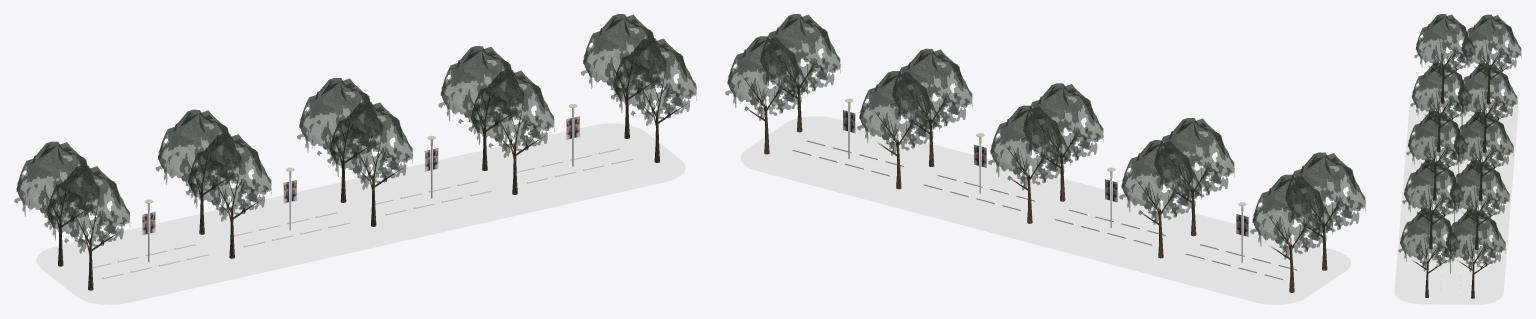
The model's file is parking.obj.
The picture shows the model from 3 angles, left to right: view 1: azimuth 30°, elevation 25°; view 2: azimuth 150°, elevation 25°; view 3: azimuth 270°, elevation 25°; orthographic projection. The views are drawn at different scales.
Visible parts, largest first — view 1: Mesh297 thirdofcrown_2_17 Red_Tree_1_9 RedTree_1_9 Group5 Group_, Mesh223 thirdofcrown_2_13 Red_Tree_1_7 RedTree_1_7 Group4 Group_, Mesh149 thirdofcrown_2_9 Red_Tree_1_5 RedTree_1_5 Group3 Group_6, Mesh1 thirdofcrown_2_1 Red_Tree_1_1 RedTree_1_1 Group1 Group_66_, Mesh75 thirdofcrown_2_5 Red_Tree_1_3 RedTree_1_3 Group2 Group_66, Mesh112 thirdofcrown_2_7 Red_Tree_1_4 RedTree_1_4 Group2 Group_6, Mesh260 thirdofcrown_2_15 Red_Tree_1_8 RedTree_1_8 Group4 Group_, Mesh38 thirdofcrown_2_3 Red_Tree_1_2 RedTree_1_2 Group1 Group_66, Mesh334 thirdofcrown_2_19 Red_Tree_1_10 RedTree_1_10 Group5 Grou, Mesh186 thirdofcrown_2_11 Red_Tree_1_6 RedTree_1_6 Group3 Group_, Mesh416 Group_15_2 Group_66_1 Model, Mesh415 Group_15_1 Group_66_1 Model (+55 smaller); view 2: Mesh46 thirdofcrown_2_4 Red_Tree_1_2 RedTree_1_2 Group1 Group_66, Mesh120 thirdofcrown_2_8 Red_Tree_1_4 RedTree_1_4 Group2 Group_6, Mesh342 thirdofcrown_2_20 Red_Tree_1_10 RedTree_1_10 Group5 Grou, Mesh194 thirdofcrown_2_12 Red_Tree_1_6 RedTree_1_6 Group3 Group_, Mesh268 thirdofcrown_2_16 Red_Tree_1_8 RedTree_1_8 Group4 Group_, Mesh231 thirdofcrown_2_14 Red_Tree_1_7 RedTree_1_7 Group4 Group_, Mesh83 thirdofcrown_2_6 Red_Tree_1_3 RedTree_1_3 Group2 Group_66, Mesh157 thirdofcrown_2_10 Red_Tree_1_5 RedTree_1_5 Group3 Group_, Mesh305 thirdofcrown_2_18 Red_Tree_1_9 RedTree_1_9 Group5 Group_, Mesh9 thirdofcrown_2_2 Red_Tree_1_1 RedTree_1_1 Group1 Group_66_, Mesh416 Group_15_2 Group_66_1 Model, Mesh415 Group_15_1 Group_66_1 Model (+55 smaller); view 3: Mesh30 thirdofcrown_1_1 Red_Tree_1_1 RedTree_1_1 Group1 Group_66, Mesh67 thirdofcrown_1_2 Red_Tree_1_2 RedTree_1_2 Group1 Group_66, Mesh104 thirdofcrown_1_3 Red_Tree_1_3 RedTree_1_3 Group2 Group_6, Mesh178 thirdofcrown_1_5 Red_Tree_1_5 RedTree_1_5 Group3 Group_6, Mesh252 thirdofcrown_1_7 Red_Tree_1_7 RedTree_1_7 Group4 Group_6, Mesh326 thirdofcrown_1_9 Red_Tree_1_9 RedTree_1_9 Group5 Group_6, Mesh141 thirdofcrown_1_4 Red_Tree_1_4 RedTree_1_4 Group2 Group_6, Mesh363 thirdofcrown_1_10 Red_Tree_1_10 RedTree_1_10 Group5 Grou, Mesh215 thirdofcrown_1_6 Red_Tree_1_6 RedTree_1_6 Group3 Group_6, Mesh289 thirdofcrown_1_8 Red_Tree_1_8 RedTree_1_8 Group4 Group_6, Mesh415 Group_15_1 Group_66_1 Model, Mesh416 Group_15_2 Group_66_1 Model (+67 smaller).
Boxes of the visible parts, bbox=[...] form: Mesh297 thirdofcrown_2_17 Red_Tree_1_9 RedTree_1_9 Group5 Group_: bbox=[46, 167, 104, 237]; Mesh223 thirdofcrown_2_13 Red_Tree_1_7 RedTree_1_7 Group4 Group_: bbox=[188, 135, 245, 205]; Mesh149 thirdofcrown_2_9 Red_Tree_1_5 RedTree_1_5 Group3 Group_6: bbox=[329, 103, 387, 173]; Mesh1 thirdofcrown_2_1 Red_Tree_1_1 RedTree_1_1 Group1 Group_66_: bbox=[613, 40, 671, 110]; Mesh75 thirdofcrown_2_5 Red_Tree_1_3 RedTree_1_3 Group2 Group_66: bbox=[471, 72, 528, 142]; Mesh112 thirdofcrown_2_7 Red_Tree_1_4 RedTree_1_4 Group2 Group_6: bbox=[440, 48, 498, 117]; Mesh260 thirdofcrown_2_15 Red_Tree_1_8 RedTree_1_8 Group4 Group_: bbox=[158, 111, 215, 181]; Mesh38 thirdofcrown_2_3 Red_Tree_1_2 RedTree_1_2 Group1 Group_66: bbox=[583, 16, 640, 85]; Mesh334 thirdofcrown_2_19 Red_Tree_1_10 RedTree_1_10 Group5 Grou: bbox=[16, 143, 74, 213]; Mesh186 thirdofcrown_2_11 Red_Tree_1_6 RedTree_1_6 Group3 Group_: bbox=[299, 79, 356, 149]; Mesh416 Group_15_2 Group_66_1 Model: bbox=[36, 246, 127, 304]; Mesh415 Group_15_1 Group_66_1 Model: bbox=[594, 123, 685, 181]; Mesh46 thirdofcrown_2_4 Red_Tree_1_2 RedTree_1_2 Group1 Group_66: bbox=[727, 38, 783, 105]; Mesh120 thirdofcrown_2_8 Red_Tree_1_4 RedTree_1_4 Group2 Group_6: bbox=[859, 72, 915, 140]; Mesh342 thirdofcrown_2_20 Red_Tree_1_10 RedTree_1_10 Group5 Grou: bbox=[1252, 176, 1308, 244]; Mesh194 thirdofcrown_2_12 Red_Tree_1_6 RedTree_1_6 Group3 Group_: bbox=[990, 107, 1046, 175]; Mesh268 thirdofcrown_2_16 Red_Tree_1_8 RedTree_1_8 Group4 Group_: bbox=[1121, 142, 1177, 209]; Mesh231 thirdofcrown_2_14 Red_Tree_1_7 RedTree_1_7 Group4 Group_: bbox=[1155, 119, 1209, 187]; Mesh83 thirdofcrown_2_6 Red_Tree_1_3 RedTree_1_3 Group2 Group_66: bbox=[892, 50, 947, 118]; Mesh157 thirdofcrown_2_10 Red_Tree_1_5 RedTree_1_5 Group3 Group_: bbox=[1023, 85, 1078, 152]; Mesh305 thirdofcrown_2_18 Red_Tree_1_9 RedTree_1_9 Group5 Group_: bbox=[1286, 154, 1340, 221]; Mesh9 thirdofcrown_2_2 Red_Tree_1_1 RedTree_1_1 Group1 Group_66_: bbox=[761, 16, 815, 83]; Mesh416 Group_15_2 Group_66_1 Model: bbox=[1256, 250, 1350, 304]; Mesh415 Group_15_1 Group_66_1 Model: bbox=[740, 116, 835, 171]; Mesh30 thirdofcrown_1_1 Red_Tree_1_1 RedTree_1_1 Group1 Group_66: bbox=[1400, 210, 1441, 260]; Mesh67 thirdofcrown_1_2 Red_Tree_1_2 RedTree_1_2 Group1 Group_66: bbox=[1446, 210, 1487, 260]; Mesh104 thirdofcrown_1_3 Red_Tree_1_3 RedTree_1_3 Group2 Group_6: bbox=[1404, 161, 1445, 211]; Mesh178 thirdofcrown_1_5 Red_Tree_1_5 RedTree_1_5 Group3 Group_6: bbox=[1408, 112, 1449, 162]; Mesh252 thirdofcrown_1_7 Red_Tree_1_7 RedTree_1_7 Group4 Group_6: bbox=[1412, 64, 1453, 114]; Mesh326 thirdofcrown_1_9 Red_Tree_1_9 RedTree_1_9 Group5 Group_6: bbox=[1415, 15, 1457, 65]; Mesh141 thirdofcrown_1_4 Red_Tree_1_4 RedTree_1_4 Group2 Group_6: bbox=[1450, 161, 1491, 211]; Mesh363 thirdofcrown_1_10 Red_Tree_1_10 RedTree_1_10 Group5 Grou: bbox=[1462, 16, 1502, 66]; Mesh215 thirdofcrown_1_6 Red_Tree_1_6 RedTree_1_6 Group3 Group_6: bbox=[1454, 113, 1495, 163]; Mesh289 thirdofcrown_1_8 Red_Tree_1_8 RedTree_1_8 Group4 Group_6: bbox=[1458, 64, 1499, 114]; Mesh415 Group_15_1 Group_66_1 Model: bbox=[1394, 292, 1503, 304]; Mesh416 Group_15_2 Group_66_1 Model: bbox=[1409, 96, 1518, 109].
Bounding box in the file's own units: 2237 × 405 × 545.
7 materials, 4 textured.
